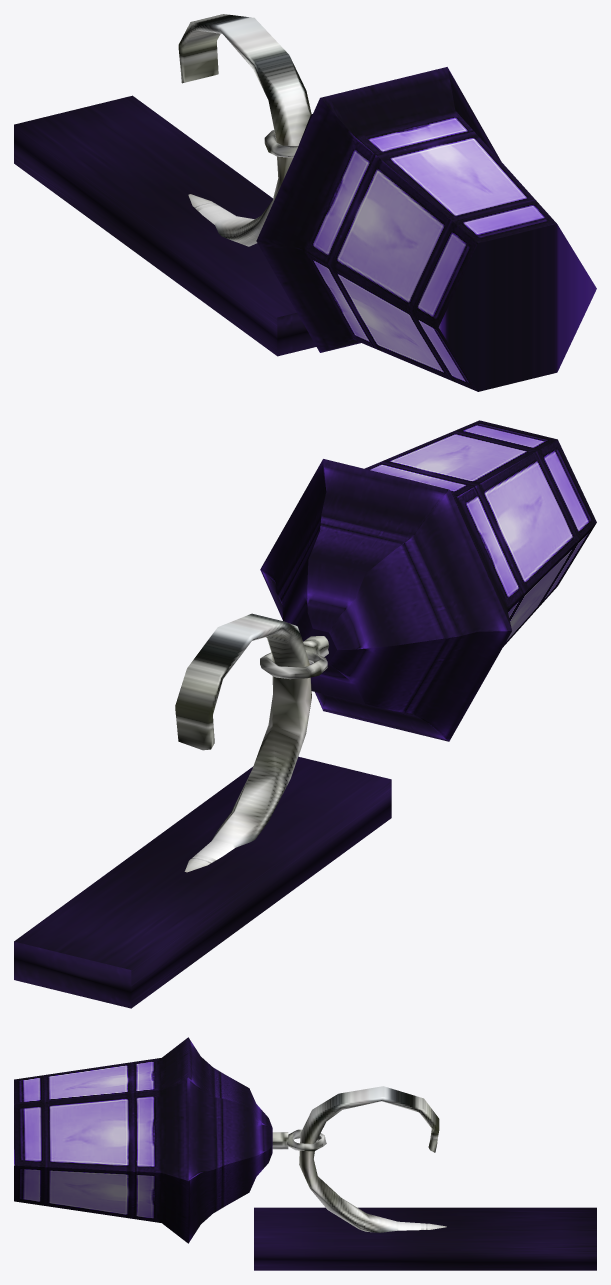
The picture shows the model from 3 angles, top to bottom: view 1: azimuth 30°, elevation 25°; view 2: azimuth 150°, elevation 25°; view 3: azimuth 270°, elevation 25°; orthographic projection. The views are drawn at different scales.
Parts seen in each view (by area): view 1: 3DSMesh_0_0, 3DSMesh_3_3, 3DSMesh_8_8, 3DSMesh_9_9, 3DSMesh_4_4, 3DSMesh_2_2, 3DSMesh_7_7; view 2: 3DSMesh_0_0, 3DSMesh_3_3, 3DSMesh_8_8, 3DSMesh_2_2, 3DSMesh_4_4, 3DSMesh_7_7, 3DSMesh_5_5, 3DSMesh_1_1; view 3: 3DSMesh_0_0, 3DSMesh_7_7, 3DSMesh_6_6, 3DSMesh_8_8, 3DSMesh_2_2, 3DSMesh_1_1.
Part boxes in pixels (bbox=[...]): 3DSMesh_0_0: bbox=[14, 95, 316, 356]; 3DSMesh_3_3: bbox=[256, 98, 477, 326]; 3DSMesh_8_8: bbox=[311, 67, 556, 243]; 3DSMesh_9_9: bbox=[438, 224, 596, 391]; 3DSMesh_4_4: bbox=[256, 241, 477, 391]; 3DSMesh_2_2: bbox=[178, 14, 311, 246]; 3DSMesh_7_7: bbox=[447, 67, 500, 160]; 3DSMesh_0_0: bbox=[14, 756, 391, 1008]; 3DSMesh_3_3: bbox=[329, 439, 596, 649]; 3DSMesh_8_8: bbox=[307, 420, 557, 632]; 3DSMesh_2_2: bbox=[175, 613, 311, 872]; 3DSMesh_4_4: bbox=[329, 523, 596, 741]; 3DSMesh_7_7: bbox=[260, 459, 326, 641]; 3DSMesh_5_5: bbox=[310, 663, 448, 741]; 3DSMesh_1_1: bbox=[260, 636, 328, 679]; 3DSMesh_0_0: bbox=[254, 1207, 596, 1270]; 3DSMesh_7_7: bbox=[14, 1077, 272, 1180]; 3DSMesh_6_6: bbox=[14, 1146, 272, 1243]; 3DSMesh_8_8: bbox=[14, 1037, 272, 1132]; 3DSMesh_2_2: bbox=[299, 1086, 446, 1232]; 3DSMesh_1_1: bbox=[272, 1129, 326, 1151].
Size of the model in its own units: 24.54 by 27.34 by 74.67.
1 material, 1 textured.
